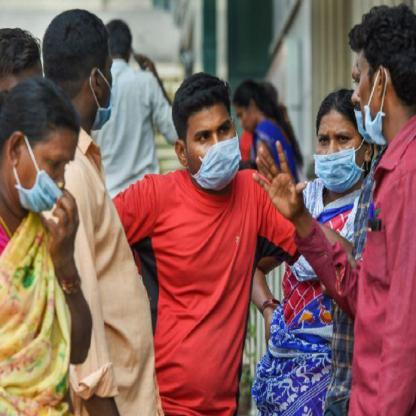Wearing_Mask: (182, 91, 234, 198), (24, 116, 64, 227), (312, 101, 353, 192)
